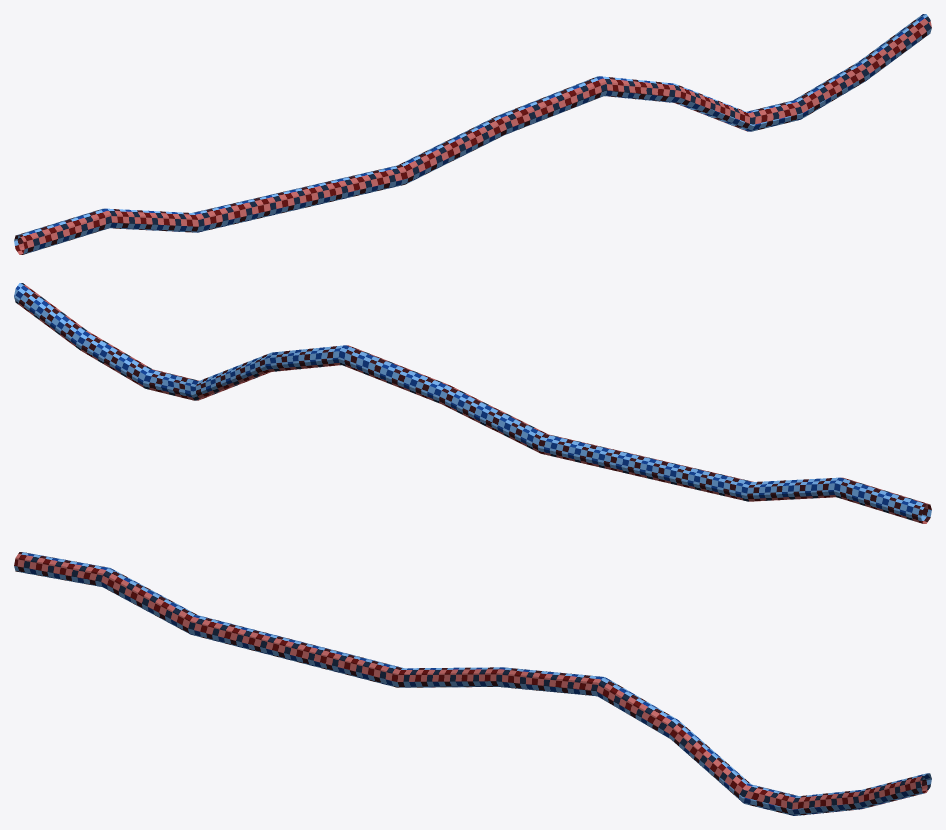
File: Wire_large_01.fbx
The picture shows the model from 3 angles, top to bottom: view 1: azimuth 30°, elevation 25°; view 2: azimuth 150°, elevation 25°; view 3: azimuth 330°, elevation 25°; orthographic projection.
Parts seen in each view (by area): view 1: wire_large_01; view 2: wire_large_01; view 3: wire_large_01.
Boxes of the visible parts, <box> form: wire_large_01: <box>14,14,931,254</box>; wire_large_01: <box>14,283,931,523</box>; wire_large_01: <box>14,552,931,815</box>.
Size of the model in its own units: 500 by 48.05 by 10.27.
Materials: 1 (1 with a texture image).
